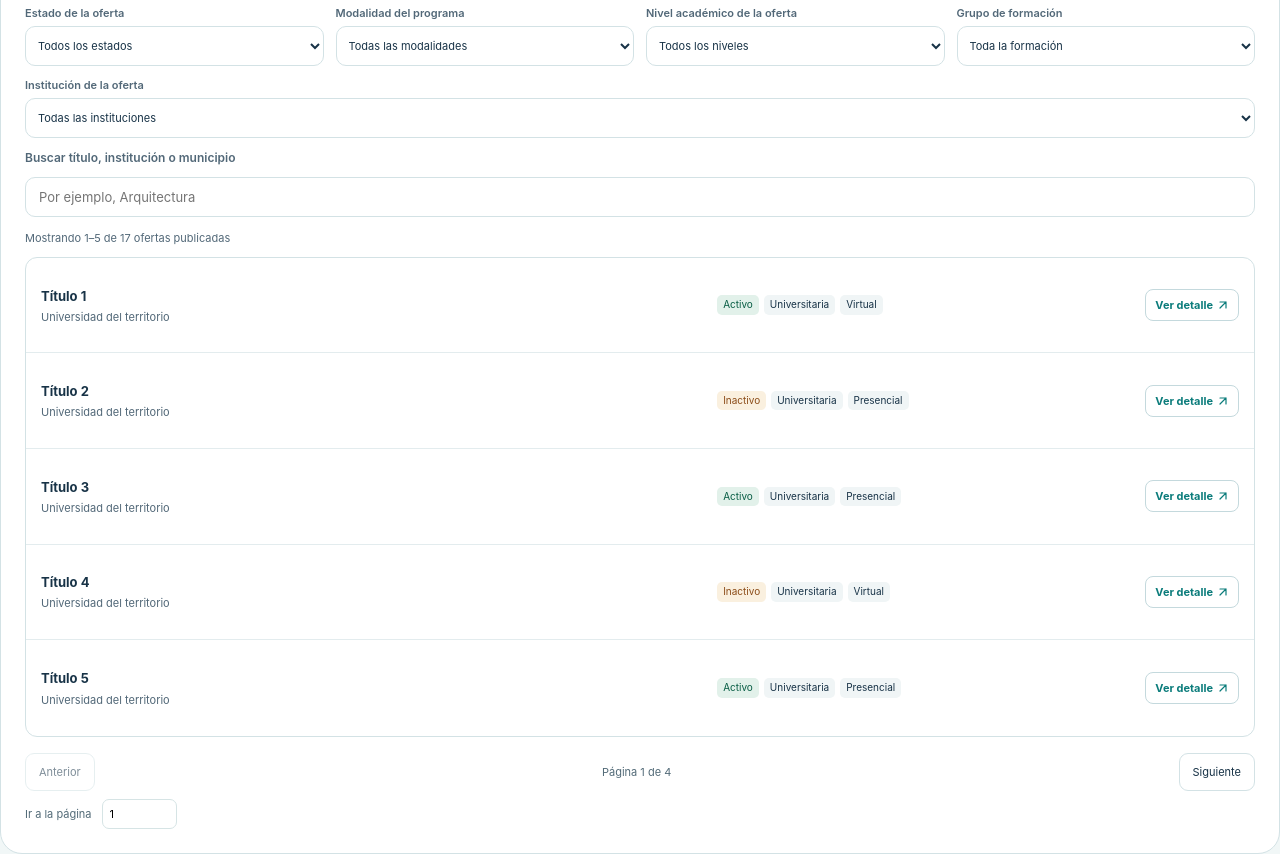
Test: explorador de educación superior › combina filtros de estado y modalidad y vuelve a la primera página al cambiar la selección
(page scrolled)
Click the button "Siguiente" at (1217, 772), box 1178,753 -> 1255,791
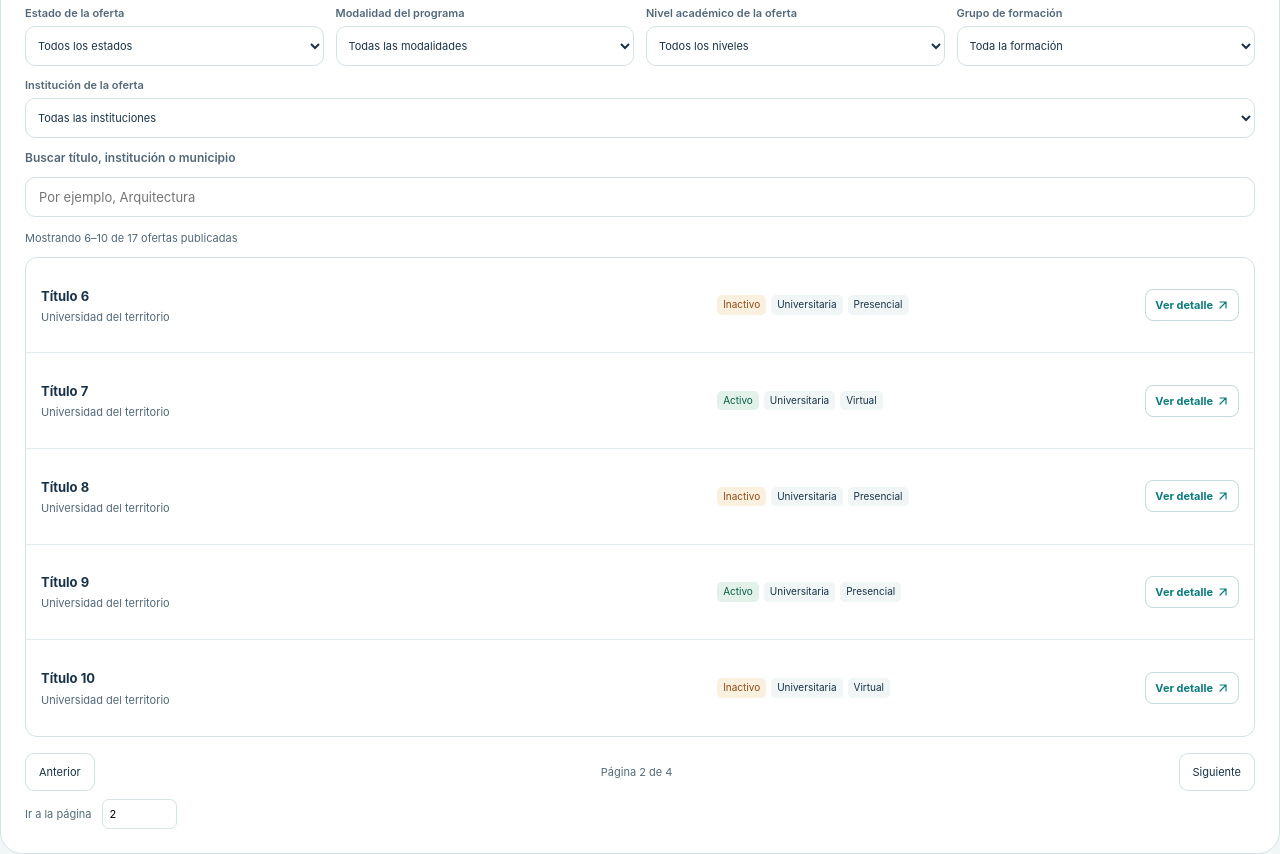
Select "Inactivo" in the dropdown labelled "Estado de la oferta" at (174, 46), box 25,26 -> 324,66
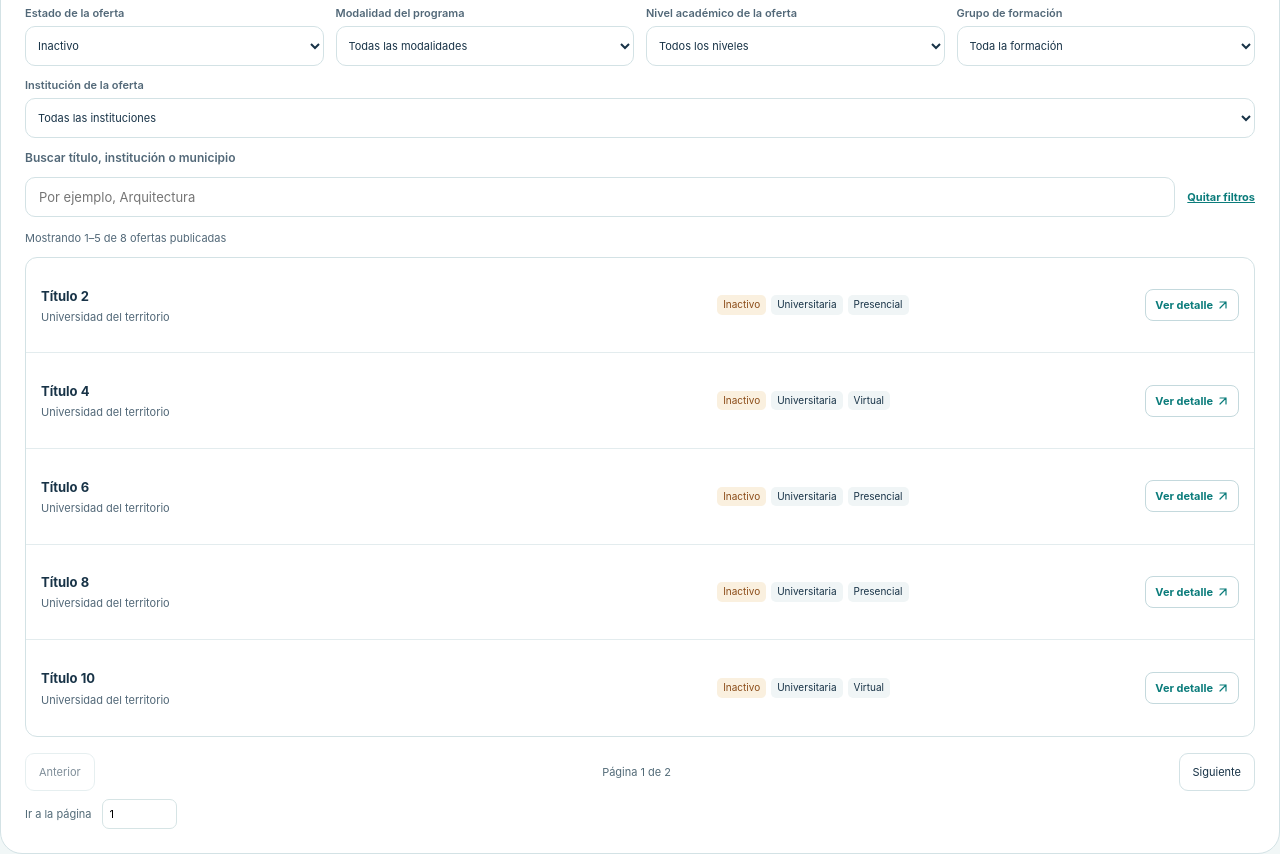
Expected: the text "Página 1 de 2" is shown, 602,765 -> 671,779
Select "Virtual" in the dropdown labelled "Modalidad del programa" at (485, 46), box 336,26 -> 634,66
(page scrolled)
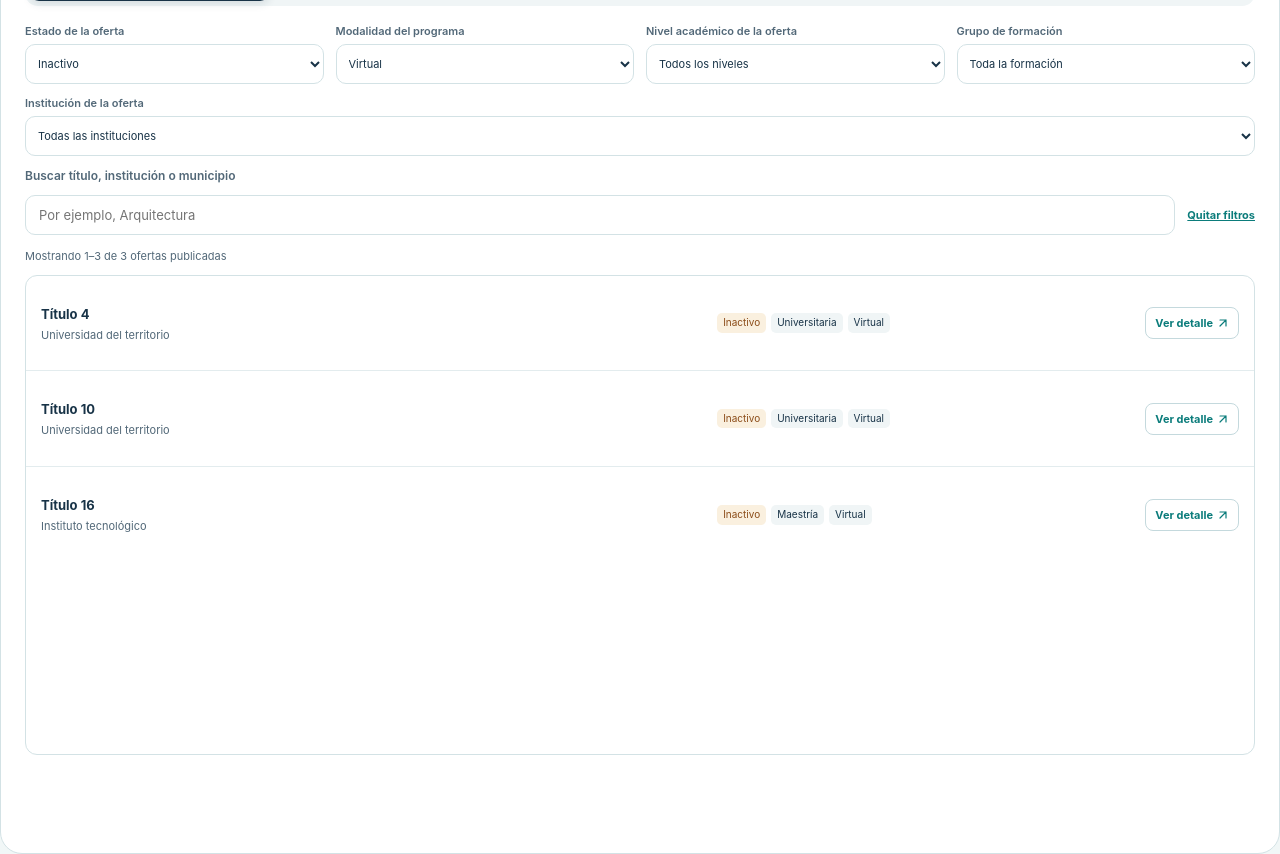
Expected: the number of list items is 3, 26,276 -> 1254,371; 26,371 -> 1254,467; 41,497 -> 1239,533
Expected: the text "Inactivo" is shown 3 times, 717,313 -> 766,333; 717,409 -> 766,428; 717,505 -> 766,524
Click the button "Quitar filtros" at (1221, 215), box 1187,202 -> 1255,228
(page scrolled)
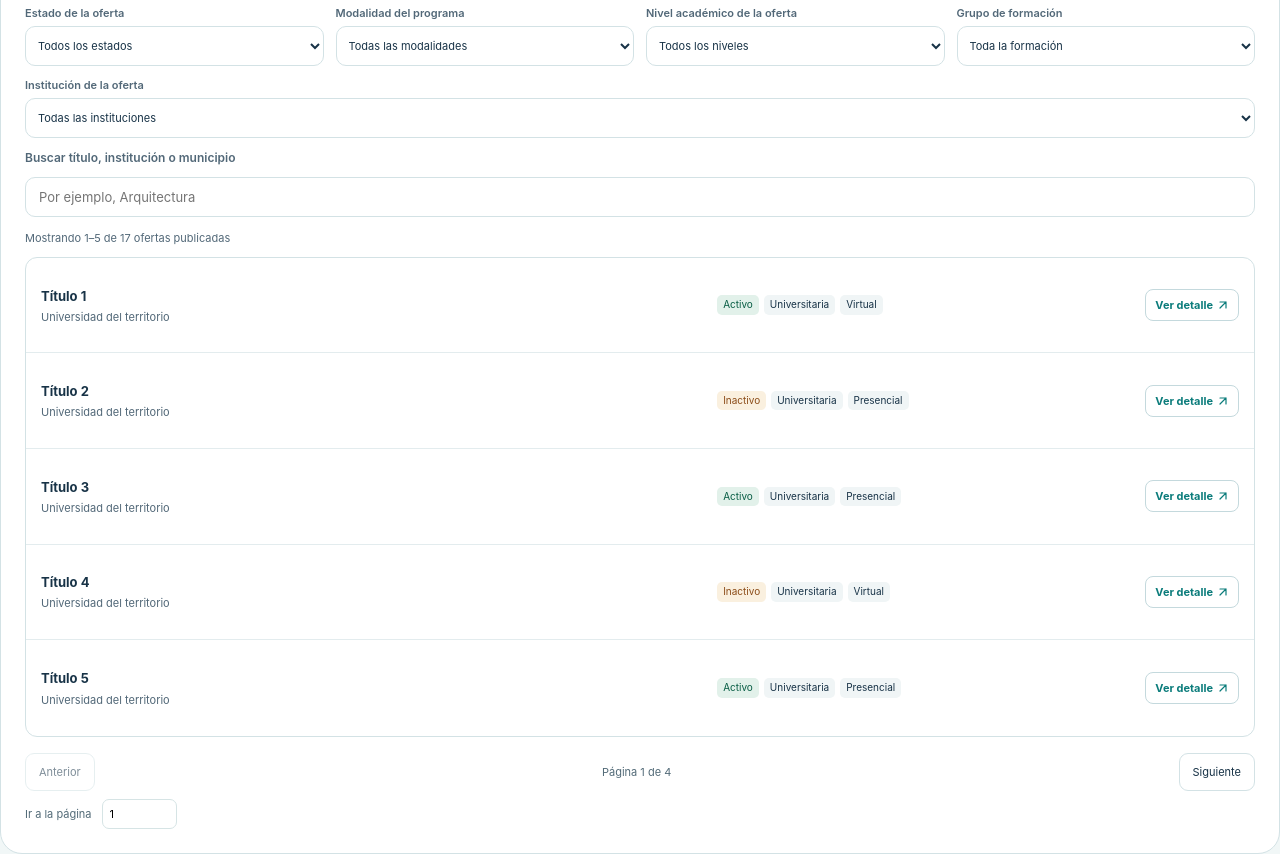
Expected: the number of list items is 5, 26,258 -> 1254,353; 26,353 -> 1254,449; 26,449 -> 1254,545; 26,545 -> 1254,640; 41,670 -> 1239,707
Expected: the text "Página 1 de 4" is shown, 602,765 -> 671,779
Select "Maestría" in the dropdown labelled "Nivel académico de la oferta" at (795, 46), box 646,26 -> 944,66
(page scrolled)
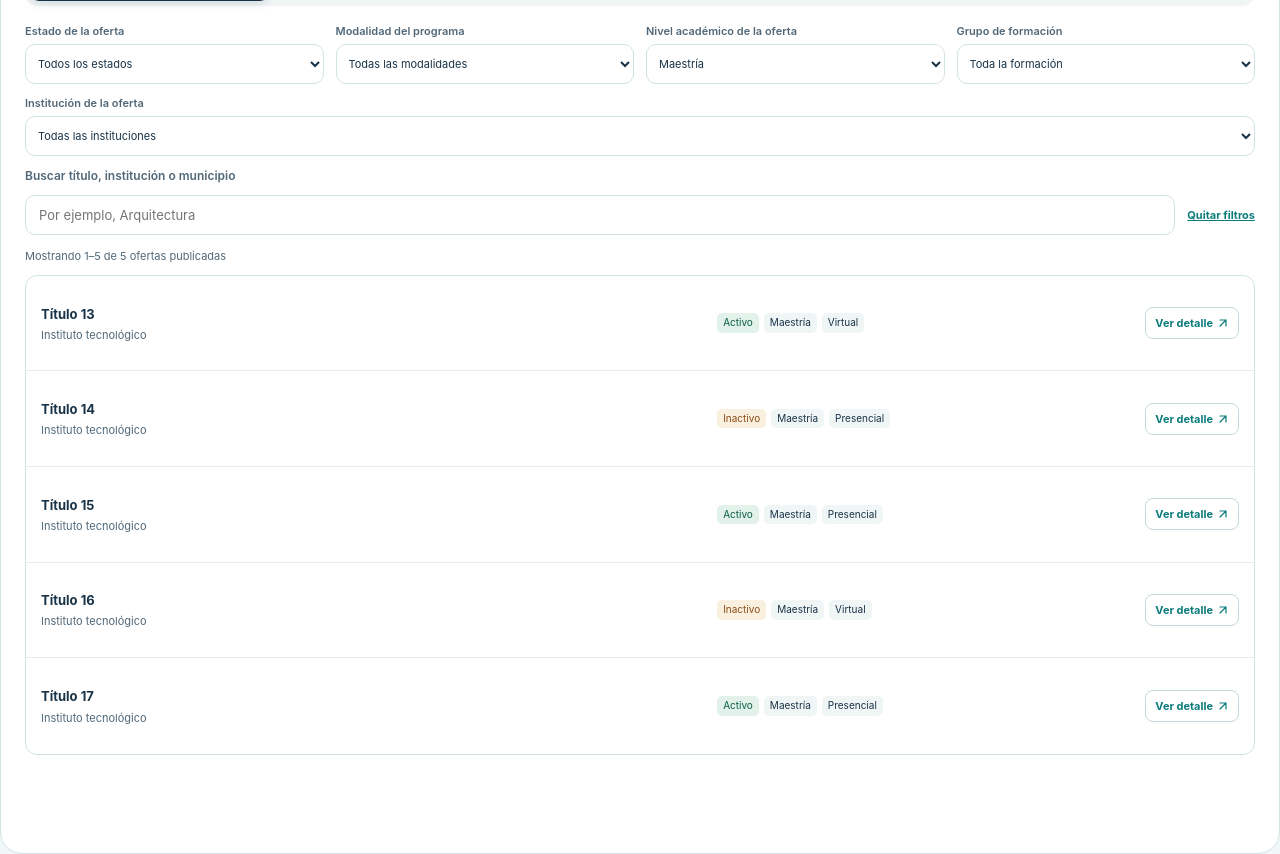
Select "Universidad del territorio" in the dropdown labelled "Institución de la oferta" at (640, 136), box 25,116 -> 1255,156
(page scrolled)
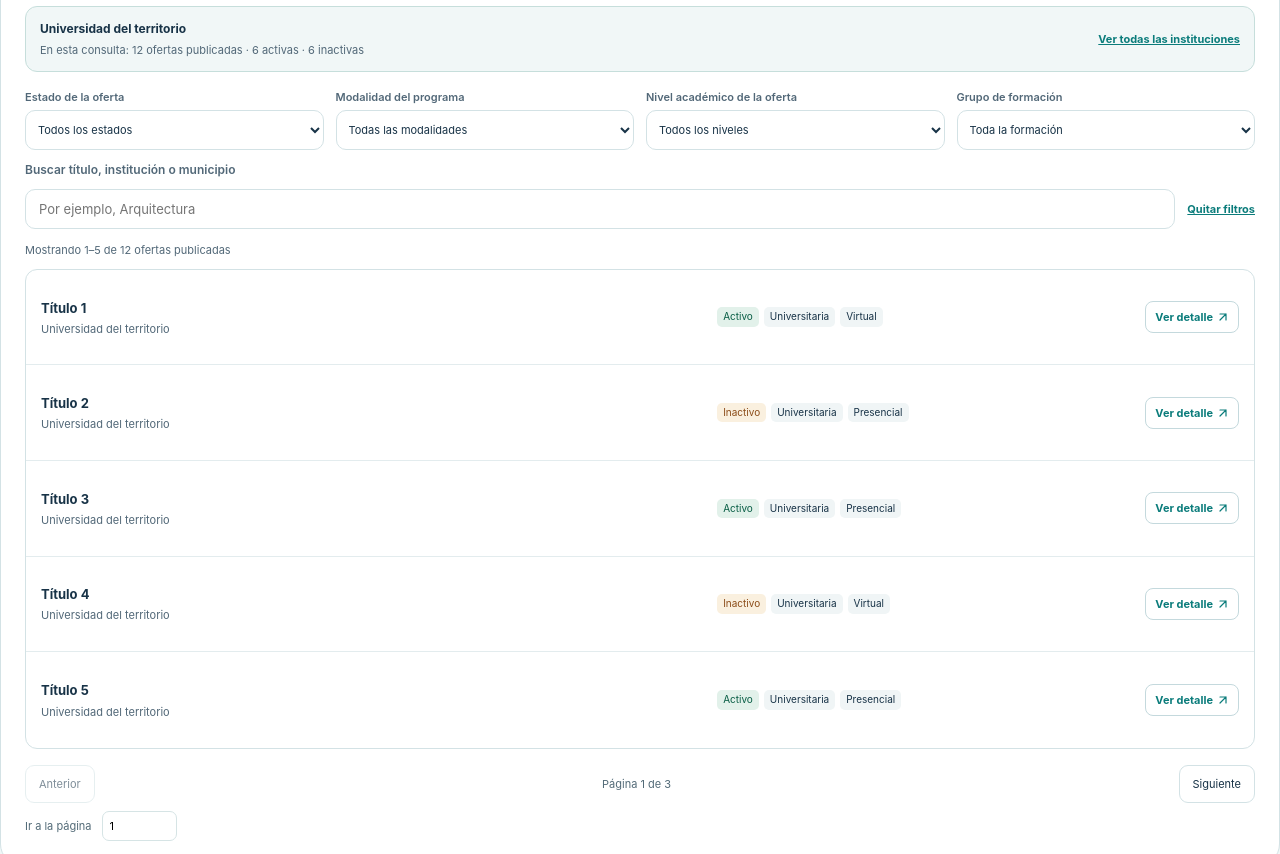
Expected: the message shows "1–5 de 12 ofertas publicadas", 25,243 -> 231,257
Expected: the text "Maestría" is gone
